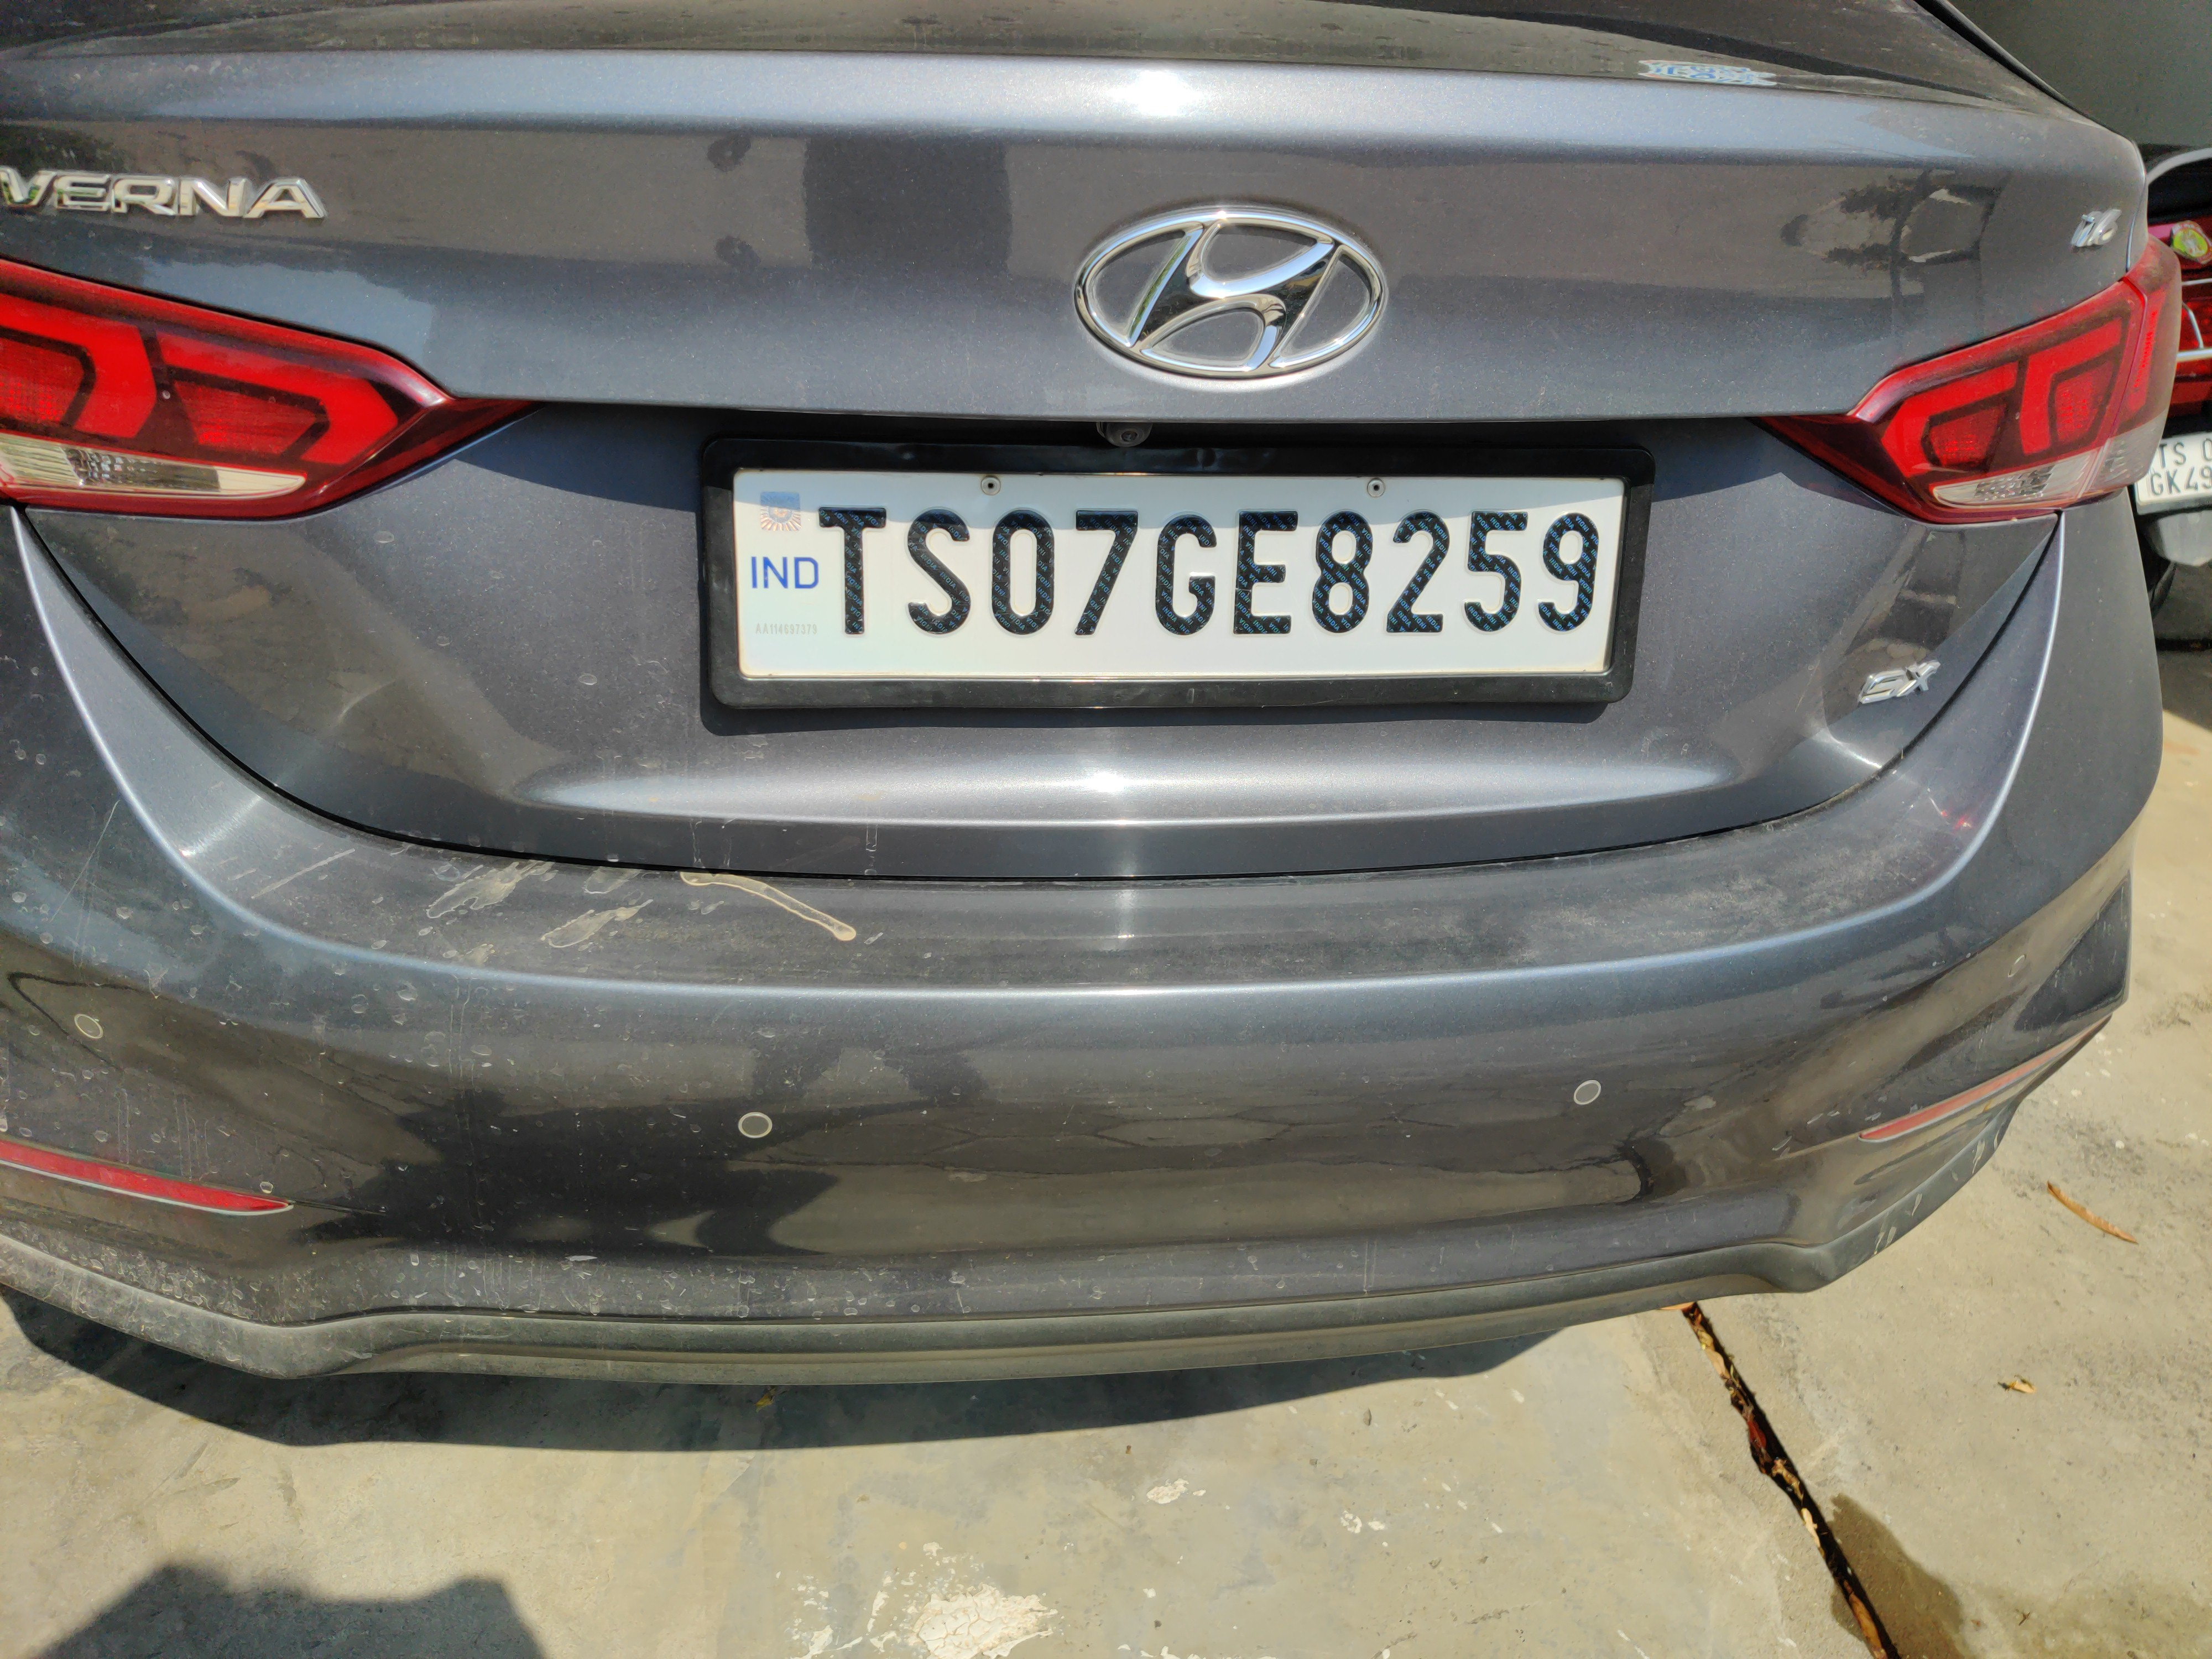plate: (640, 371, 1691, 790)
